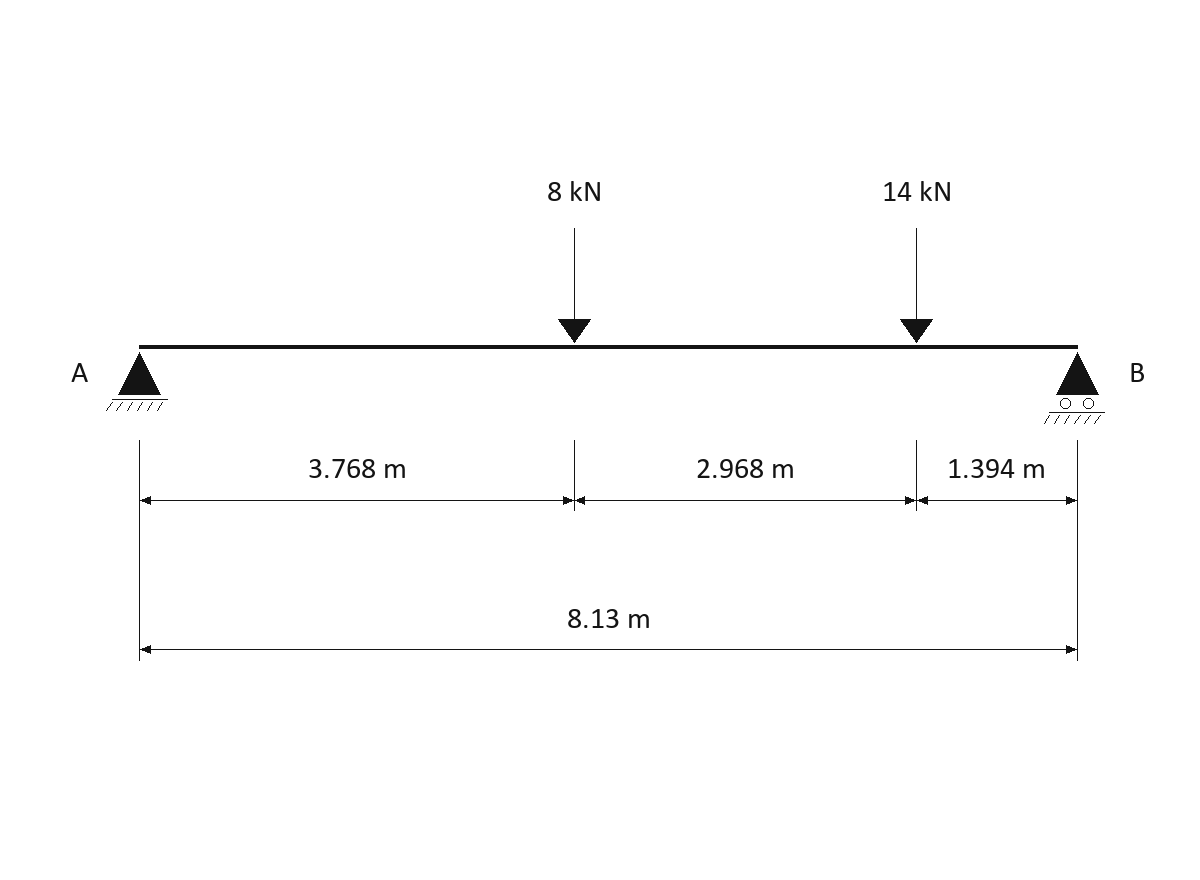pin_support: (106, 352, 168, 411)
point_load: (558, 228, 591, 343), (900, 228, 933, 343)
roller_support: (1044, 352, 1105, 424)
